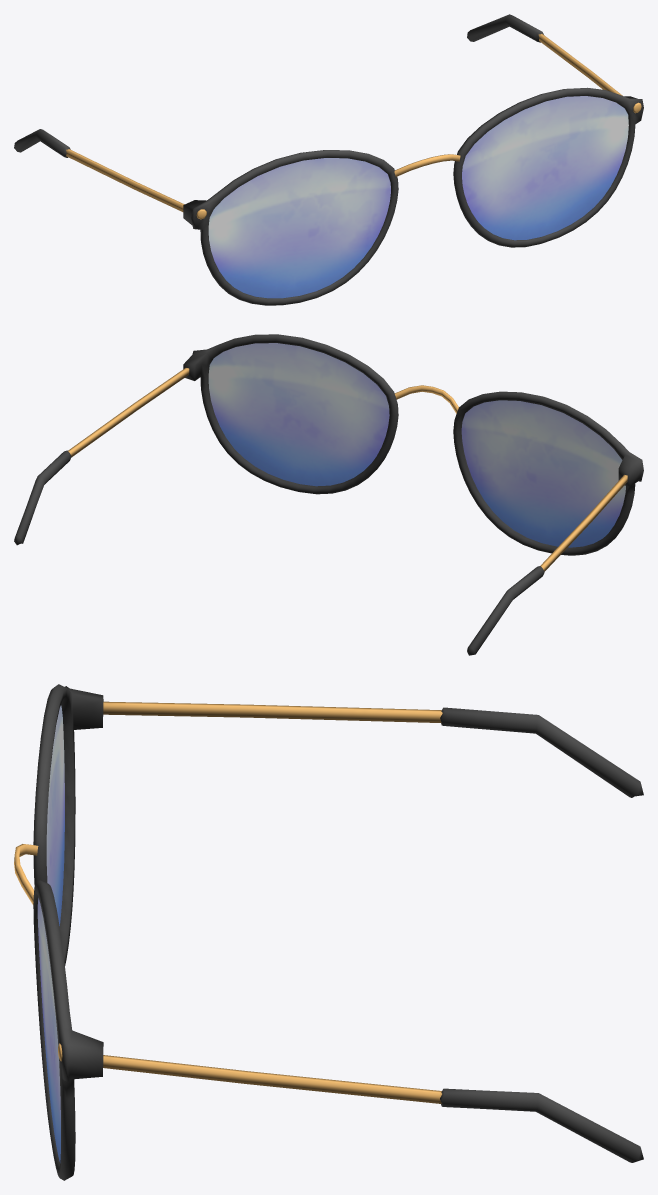
File: Miroir_Sunglass.fbx
3 views of the same model, one above another, from view 1: azimuth 30°, elevation 25°; view 2: azimuth 150°, elevation 25°; view 3: azimuth 270°, elevation 25° (orthographic). The views are drawn at different scales.
Parts seen in each view (by area): view 1: Costume_Other1; view 2: Costume_Other1; view 3: Costume_Other1.
Boxes of the visible parts, x1,y1,x2,y2 form: Costume_Other1: (14,14,643,305); Costume_Other1: (14,334,643,655); Costume_Other1: (14,684,643,1180).
Size of the model in its own units: 0.1406 by 0.0425 by 0.0965.
